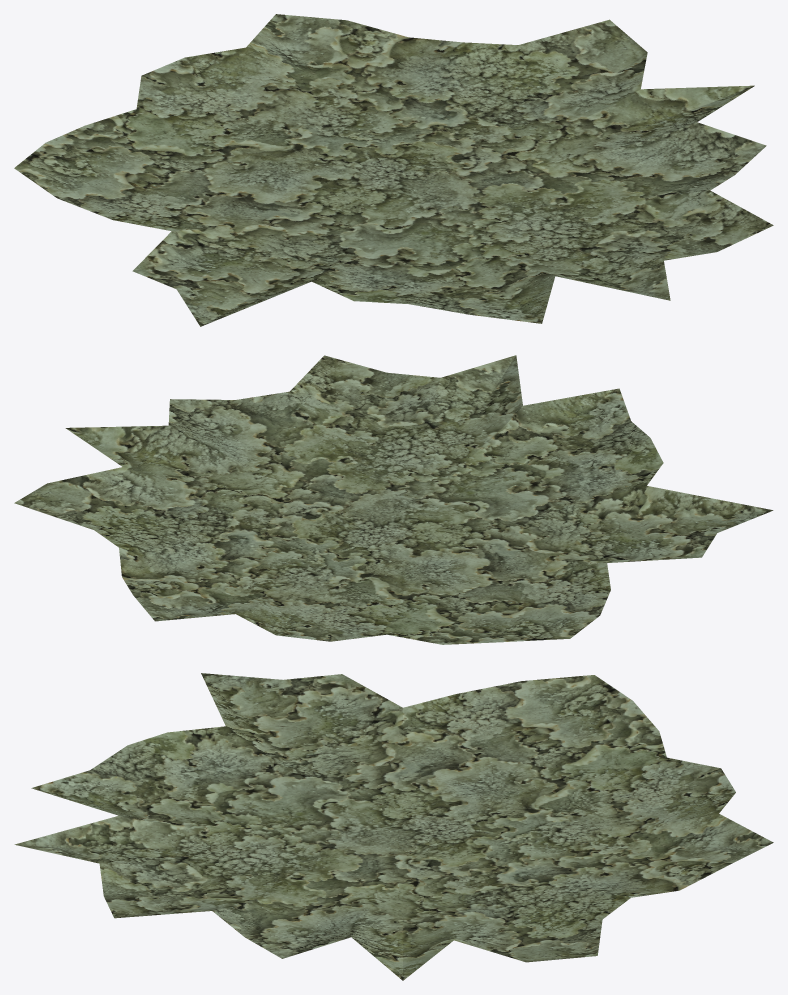
Rendered from lichen_crust_v01.fbx.
3 renders of one model, top to bottom at view 1: azimuth 30°, elevation 25°; view 2: azimuth 150°, elevation 25°; view 3: azimuth 270°, elevation 25°, orthographic. The views are drawn at different scales.
Parts seen in each view (by area): view 1: lichen_crust_v01; view 2: lichen_crust_v01; view 3: lichen_crust_v01.
Boxes of the visible parts, x1,y1,x2,y2 form: lichen_crust_v01: [14, 14, 773, 326]; lichen_crust_v01: [14, 355, 773, 644]; lichen_crust_v01: [14, 673, 773, 980].
Bounding box in the file's own units: 48.59 × 1.41 × 50.03.
Materials: 1 (1 with a texture image).
